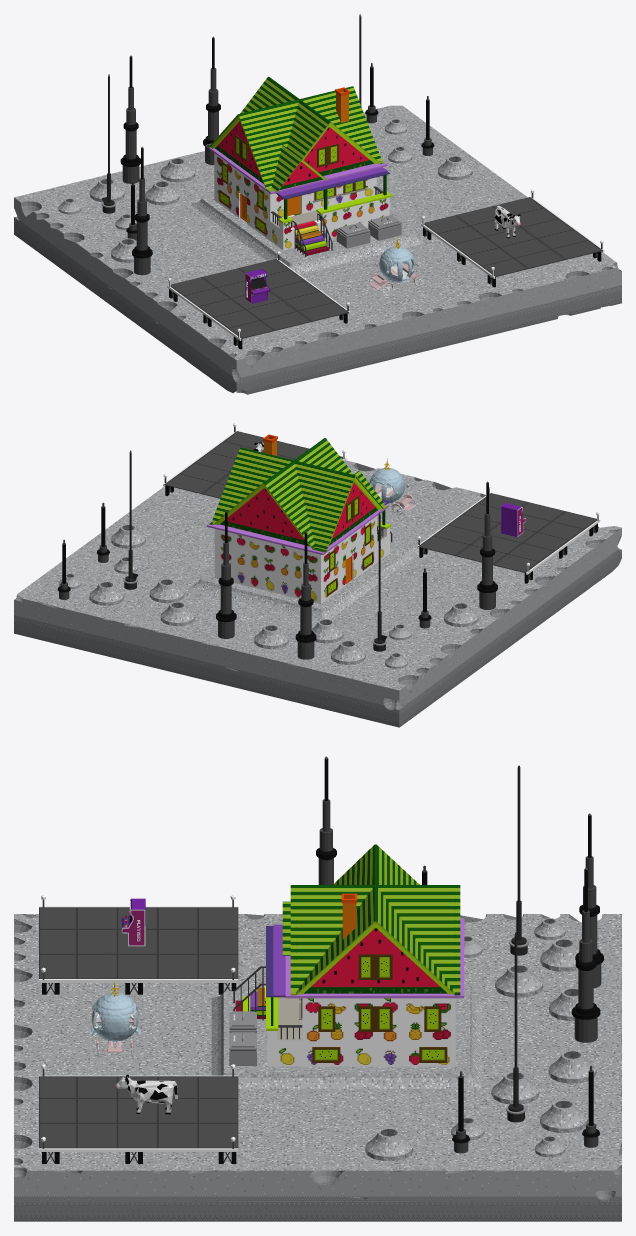
3 views of the same model, one above another, from view 1: azimuth 30°, elevation 25°; view 2: azimuth 150°, elevation 25°; view 3: azimuth 270°, elevation 25° (orthographic). The views are drawn at different scales.
Parts seen in each view (by area): view 1: Cube.027, Cube.1063, Cube.026, Cube.025, Cube.028, VEHICLES_FANTASY_CARRIAGE, Cylinder.020, Cylinder.021, Cylinder.017, OBJRANDOM_ARCADE, Cube.029, Cube.030 (+5 smaller); view 2: Cube.027, Cube.1063, Cube.025, Cube.028, Cube.026, Cylinder.020, VEHICLES_FANTASY_CARRIAGE, Cylinder.021, Cylinder.017, OBJRANDOM_ARCADE, Cylinder.031, Cylinder.028 (+8 smaller); view 3: Cube.027, Cube.1063, Cube.025, Cube.026, Cube.028, Cylinder.017, VEHICLES_FANTASY_CARRIAGE, Cylinder.020, Cylinder.021, ANIMAL_VACA, Cylinder.033, Cylinder.031 (+11 smaller).
Boxes of the visible parts, x1,y1,x2,y2 form: Cube.027: (14, 105, 621, 394); Cube.1063: (205, 76, 392, 256); Cube.026: (421, 189, 604, 287); Cube.025: (167, 251, 350, 349); Cube.028: (191, 195, 424, 274); VEHICLES_FANTASY_CARRIAGE: (368, 237, 424, 293); Cylinder.020: (120, 55, 140, 183); Cylinder.021: (132, 146, 152, 275); Cylinder.017: (203, 36, 220, 164); OBJRANDOM_ARCADE: (245, 268, 269, 303); Cube.029: (336, 222, 370, 248); Cube.030: (368, 215, 401, 240); Cube.027: (14, 460, 621, 727); Cube.1063: (206, 434, 392, 603); Cube.025: (417, 485, 600, 583); Cube.028: (190, 538, 419, 620); Cube.026: (163, 423, 346, 498); Cylinder.020: (295, 531, 316, 659); VEHICLES_FANTASY_CARRIAGE: (369, 458, 415, 515); Cylinder.021: (477, 481, 497, 609); Cylinder.017: (216, 510, 236, 638); OBJRANDOM_ARCADE: (501, 502, 525, 537); Cylinder.031: (89, 581, 124, 605); Cylinder.028: (331, 640, 365, 664); Cube.027: (14, 914, 621, 1221); Cube.1063: (233, 844, 464, 1066); Cube.025: (39, 895, 238, 994); Cube.026: (39, 1064, 238, 1163); Cube.028: (211, 991, 481, 1088); Cylinder.017: (571, 867, 600, 1042); VEHICLES_FANTASY_CARRIAGE: (89, 981, 140, 1057); Cylinder.020: (575, 813, 603, 988); Cylinder.021: (316, 756, 336, 884); ANIMAL_VACA: (115, 1074, 177, 1114); Cylinder.033: (365, 1128, 413, 1160); Cylinder.031: (540, 1100, 587, 1132).
Bounding box in the file's own units: 4000 × 1807 × 4000.
Materials: 34 (6 with a texture image).
